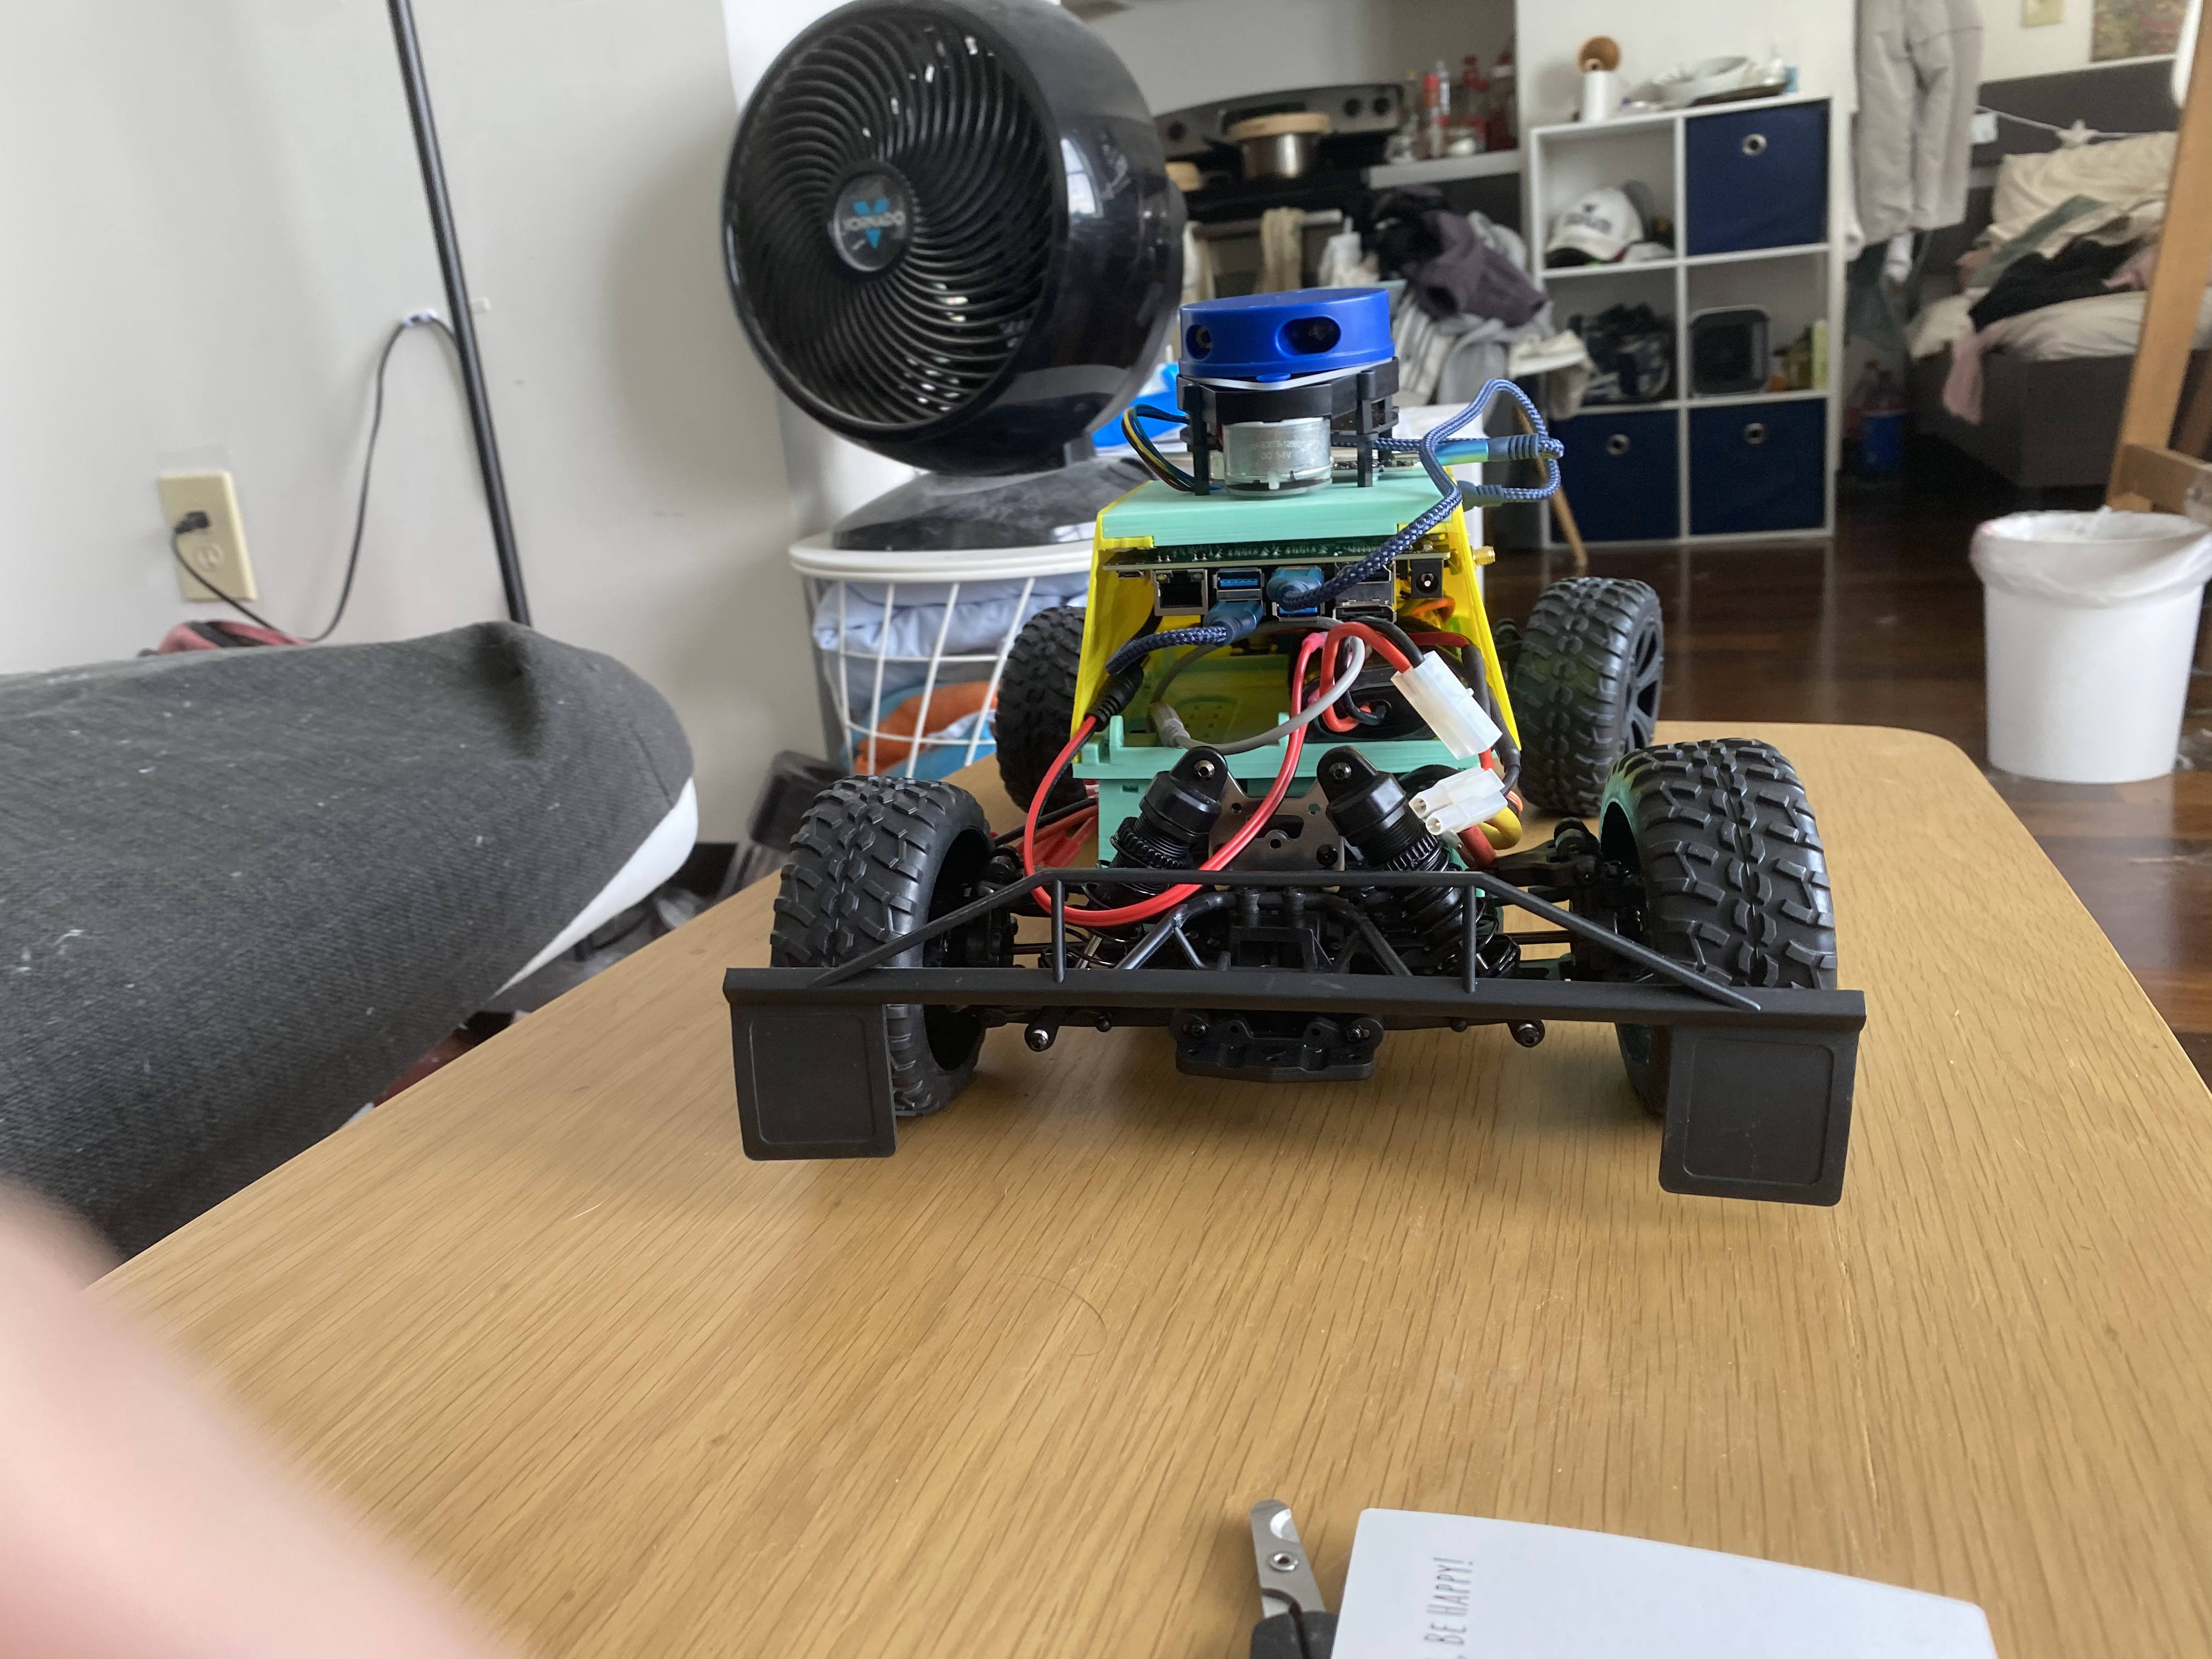mushr_car: (700, 277, 1869, 1260)
